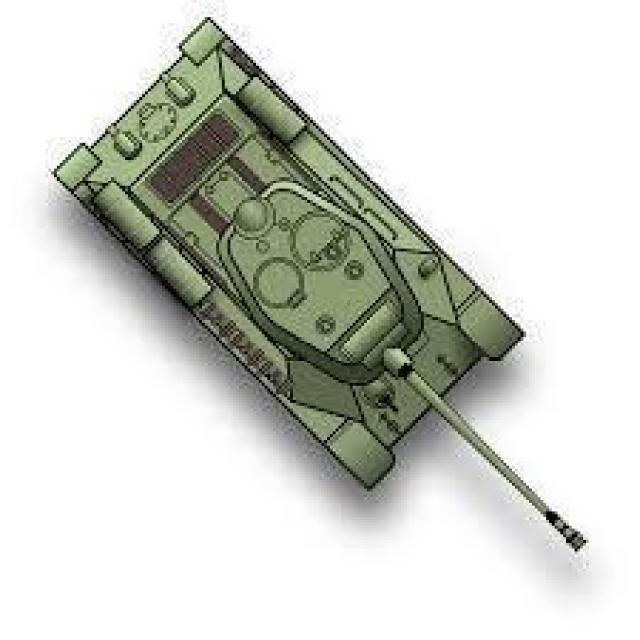Tanks: (44, 16, 587, 578)
